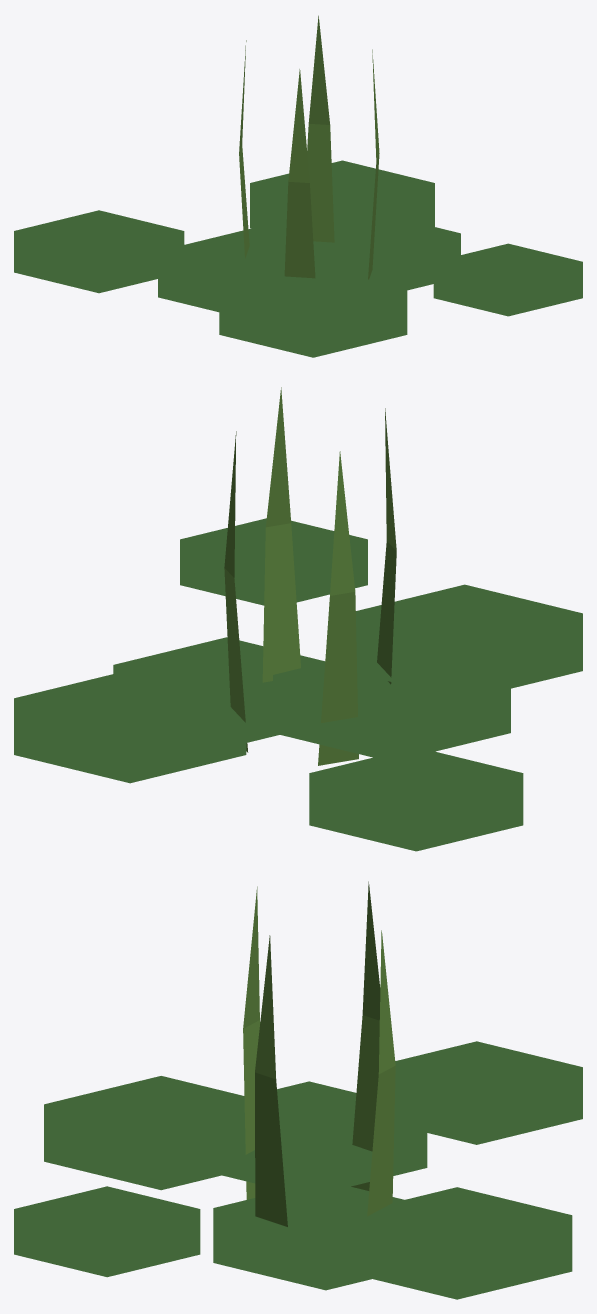
3 renders of one model, top to bottom at view 1: azimuth 30°, elevation 25°; view 2: azimuth 150°, elevation 25°; view 3: azimuth 270°, elevation 25°, orthographic. The views are drawn at different scales.
Parts seen in each view (by area): view 1: 草_12; view 2: 草_12; view 3: 草_12.
Part boxes in pixels (bbox=[...]): 草_12: bbox=[14, 15, 582, 357]; 草_12: bbox=[14, 387, 582, 851]; 草_12: bbox=[14, 881, 582, 1299].
Bounding box in the file's own units: 0.9677 × 0.55 × 0.9074.
